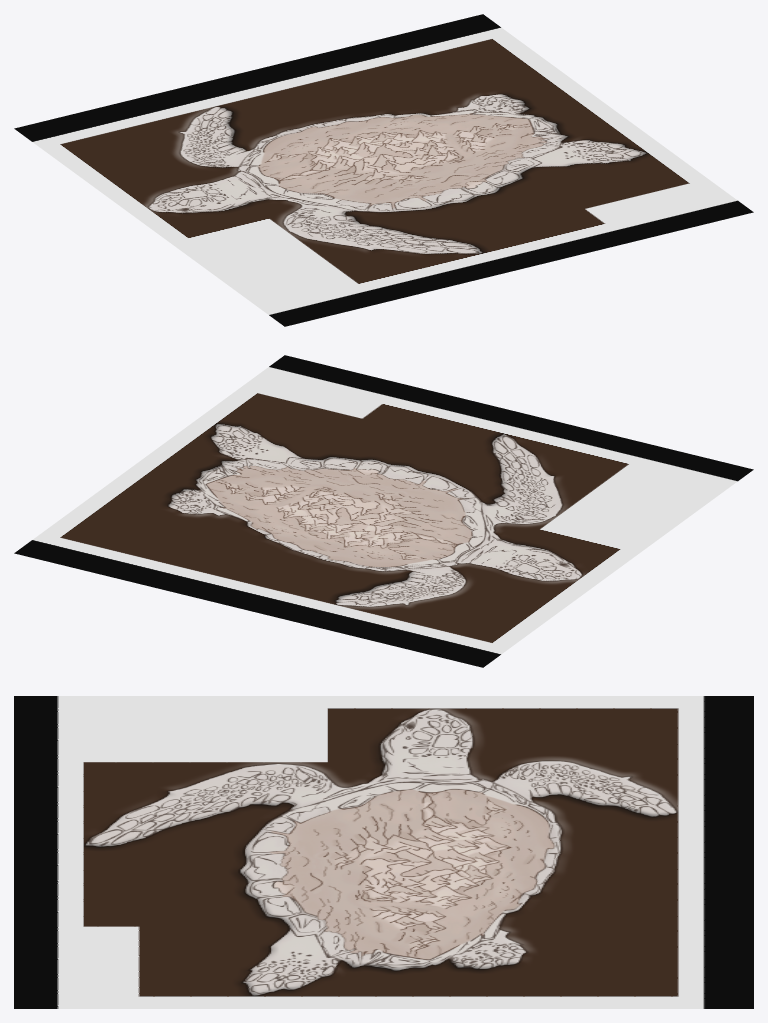
File: mapa1.gltf
The picture shows the model from 3 angles, top to bottom: view 1: azimuth 30°, elevation 25°; view 2: azimuth 150°, elevation 25°; view 3: azimuth 270°, elevation 25°; orthographic projection. The views are drawn at different scales.
Visible parts, largest first — view 1: Plano; view 2: Plano; view 3: Plano.
Boxes of the visible parts, left/top/right/bottom form: Plano: left=14, top=14, right=753, bottom=326; Plano: left=14, top=355, right=753, bottom=667; Plano: left=14, top=696, right=753, bottom=1008.
Size of the model in its own units: 4 by 6.74e-07 by 4.
1 material, 1 textured.
